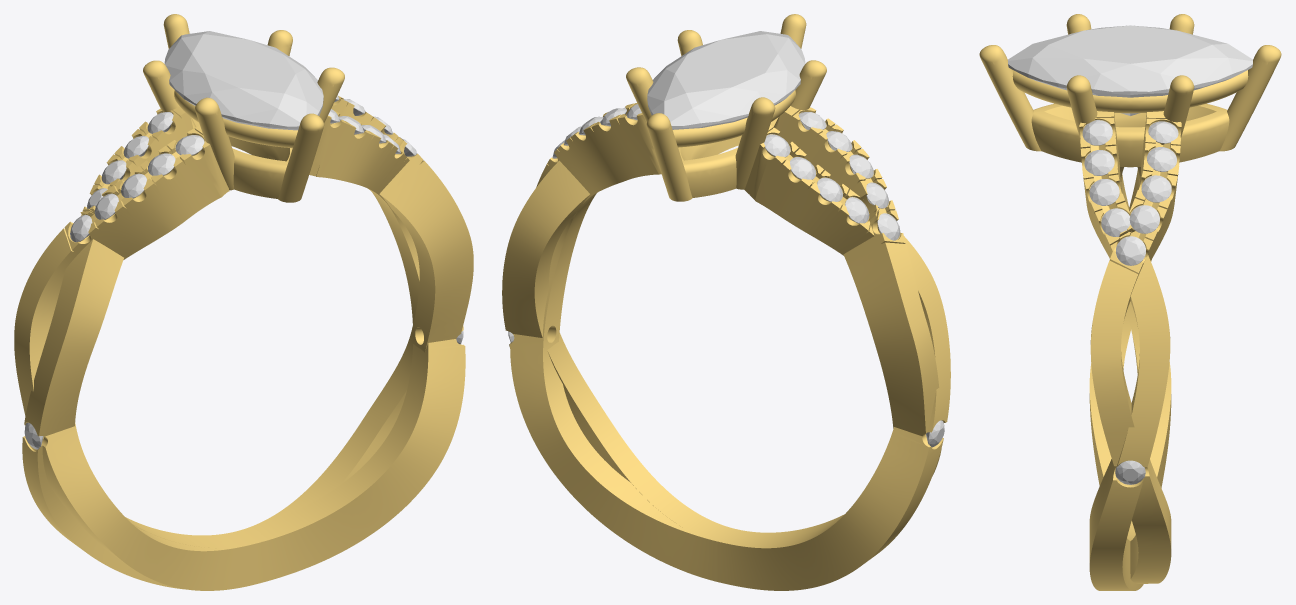
File: diamond-marquise-yellowgold-6prong-twist-sidestones.glb
3 views of the same model, side by side, from view 1: azimuth 30°, elevation 25°; view 2: azimuth 150°, elevation 25°; view 3: azimuth 270°, elevation 25° (orthographic).
Visible parts, largest first — view 1: metal.001, stone; view 2: metal.001, stone; view 3: metal.001, stone, Twist diamonds.015, Twist diamonds.016, Twist diamonds.017, Twist diamonds.012, Twist diamonds.011, Twist diamonds.013, Twist diamonds.014, Twist diamonds.018, Twist diamonds.010, Twist diamonds.019.
Part boxes in pixels (x1=…): metal.001: x1=14, y1=14, x2=473, y2=590; stone: x1=164, y1=31, x2=323, y2=130; metal.001: x1=502, y1=14, x2=950, y2=590; stone: x1=647, y1=31, x2=805, y2=129; metal.001: x1=979, y1=14, x2=1281, y2=590; stone: x1=1008, y1=25, x2=1252, y2=115; Twist diamonds.015: x1=1116, y1=236, x2=1145, y2=265; Twist diamonds.016: x1=1129, y1=205, x2=1159, y2=233; Twist diamonds.017: x1=1141, y1=175, x2=1171, y2=202; Twist diamonds.012: x1=1089, y1=179, x2=1119, y2=205; Twist diamonds.011: x1=1101, y1=208, x2=1130, y2=236; Twist diamonds.013: x1=1084, y1=150, x2=1114, y2=175; Twist diamonds.014: x1=1082, y1=120, x2=1112, y2=145; Twist diamonds.018: x1=1147, y1=147, x2=1176, y2=171; Twist diamonds.010: x1=1115, y1=460, x2=1145, y2=484; Twist diamonds.019: x1=1148, y1=121, x2=1178, y2=143.
Bounding box in the file's own units: 19.97 × 22.73 × 11.96.
